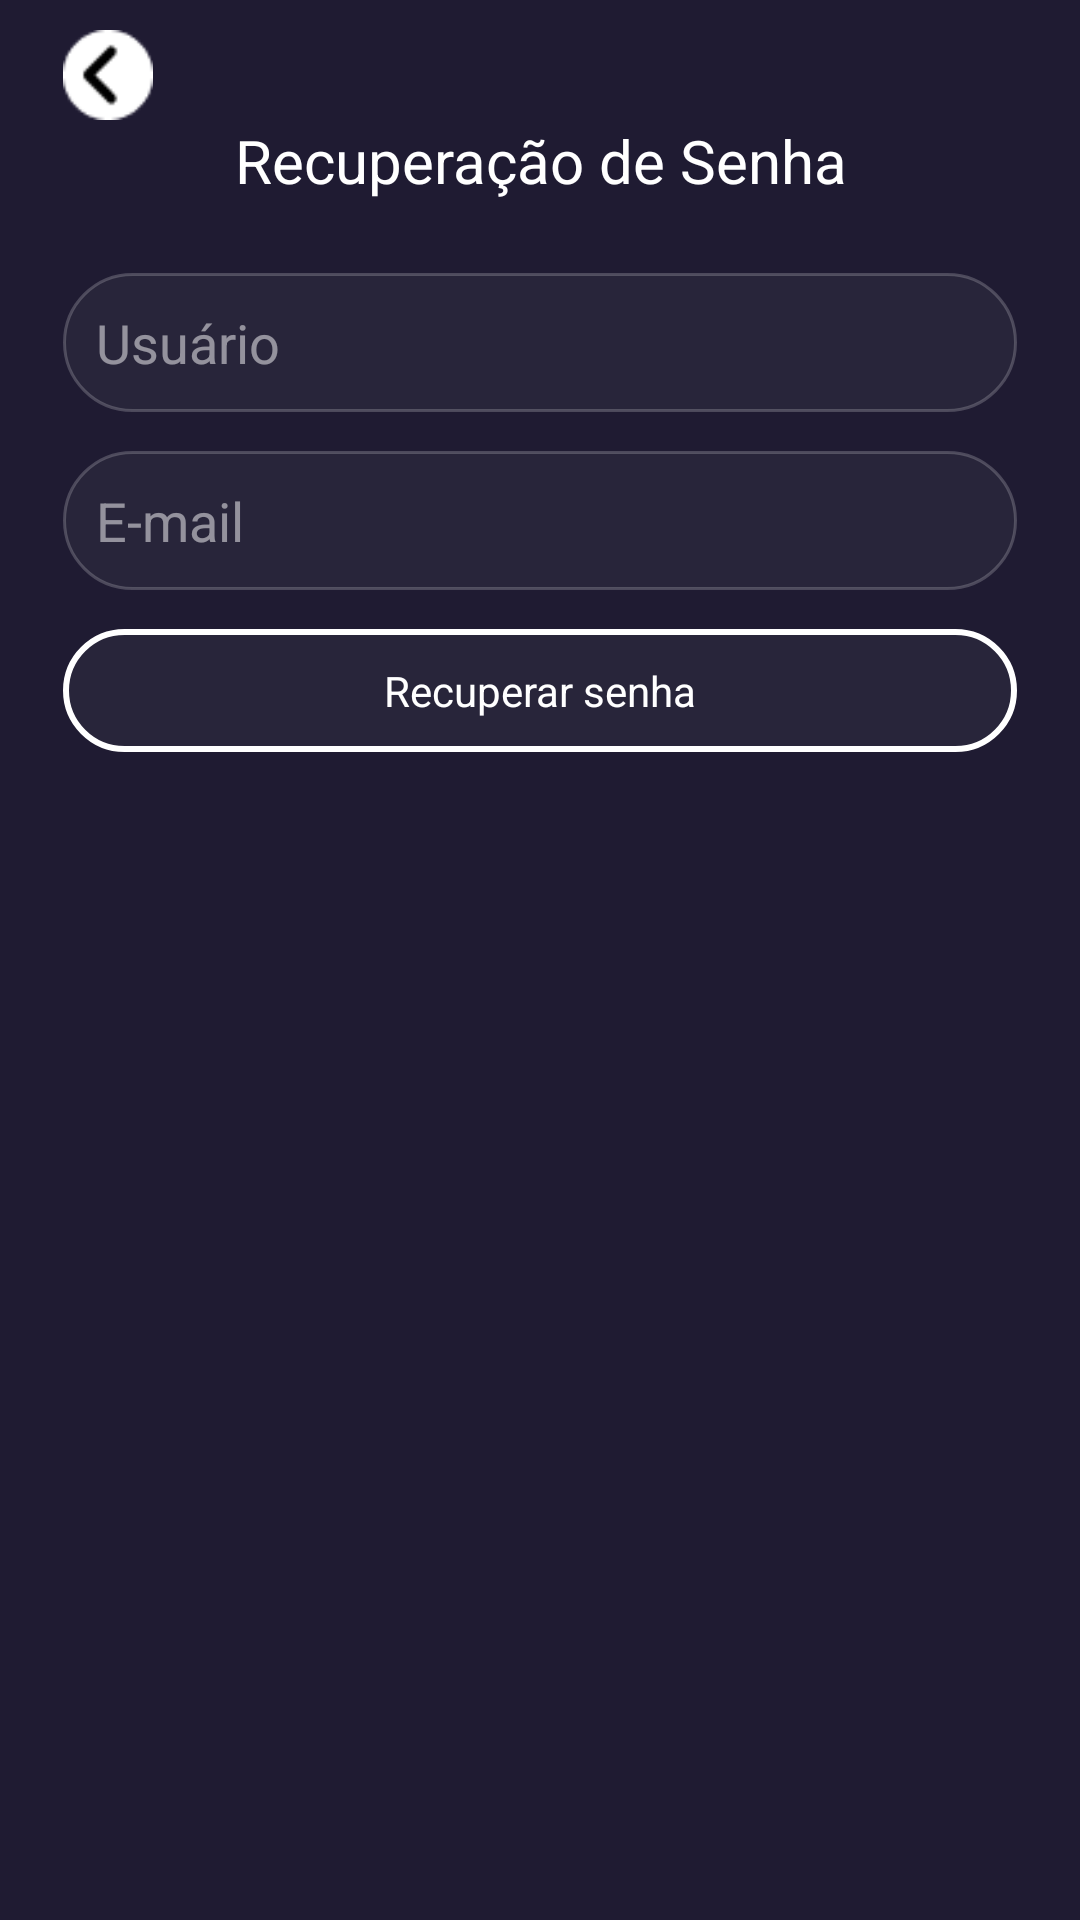

Screen size 1080px×1920px. Icon name, then its box in pixels as (left=x1, top=y1, right=x2, bottom=y2):
back: (left=63, top=30, right=153, bottom=120)
